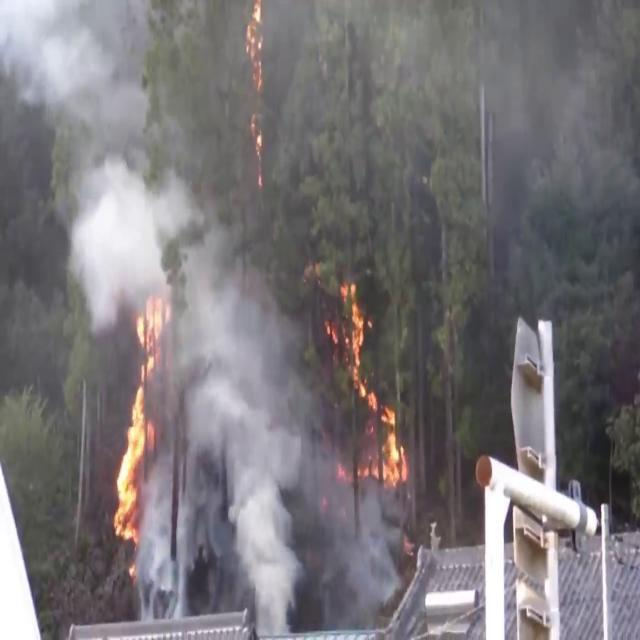Fire: (322, 263, 416, 502), (96, 290, 162, 602), (249, 2, 270, 192)
Smoke: (263, 0, 640, 282), (1, 2, 234, 321), (152, 234, 316, 637), (314, 447, 403, 640)
